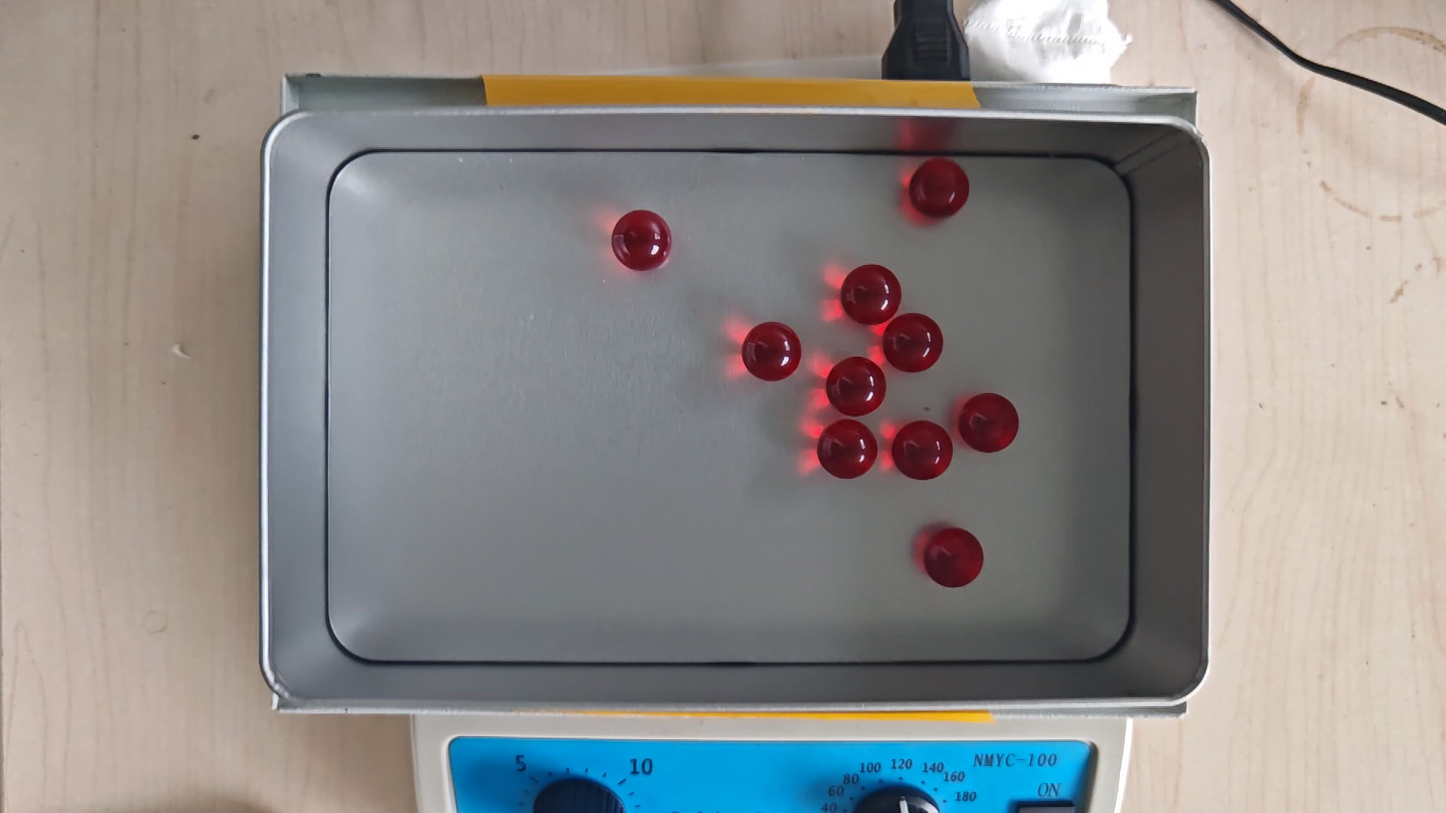ball: (958, 392, 1020, 454), (612, 209, 673, 272), (924, 526, 985, 588), (892, 420, 953, 482), (910, 157, 970, 219), (742, 321, 802, 382), (842, 263, 901, 325), (818, 420, 878, 480), (827, 356, 886, 417), (885, 312, 941, 373)
container: (326, 151, 1132, 663)
